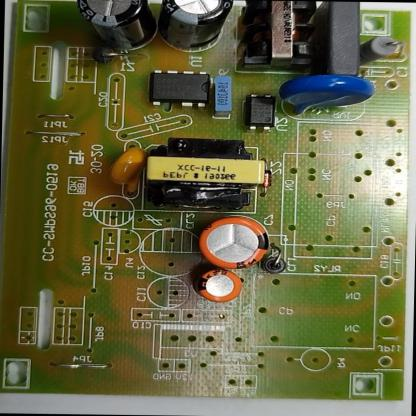Cap1: (194, 213, 274, 272)
Cap2: (196, 264, 245, 306)
Cap3: (157, 0, 239, 59)
Cap4: (71, 0, 158, 53)
MOSFET: (148, 67, 214, 111)
Mov: (273, 72, 382, 113)
Resistor: (361, 34, 400, 66)
Transformer: (143, 135, 269, 212), (234, 1, 323, 74)
